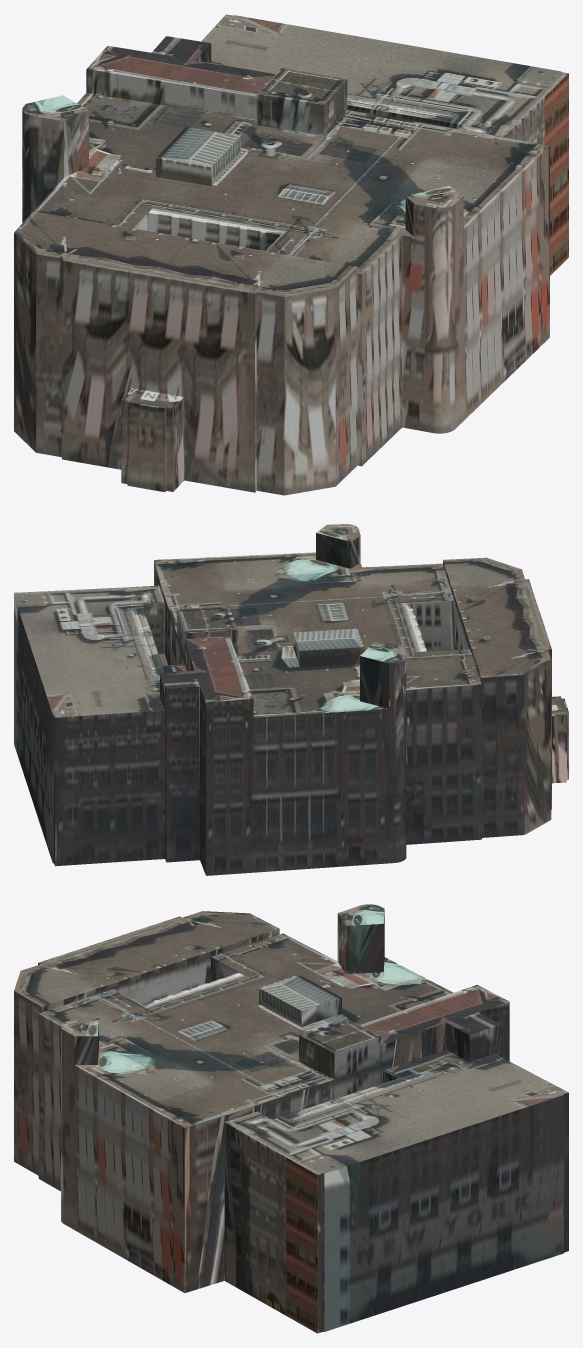
3 views of the same model, one above another, from view 1: azimuth 30°, elevation 25°; view 2: azimuth 150°, elevation 25°; view 3: azimuth 270°, elevation 25° (orthographic). The views are drawn at different scales.
Parts seen in each view (by area): view 1: Z_UP; view 2: Z_UP; view 3: Z_UP.
Boxes of the visible parts, bbox=[...] form: Z_UP: bbox=[14, 14, 568, 495]; Z_UP: bbox=[14, 524, 568, 875]; Z_UP: bbox=[14, 904, 568, 1333].
Bounding box in the file's own units: 61.62 × 24.37 × 57.42.
9 materials, 8 textured.
